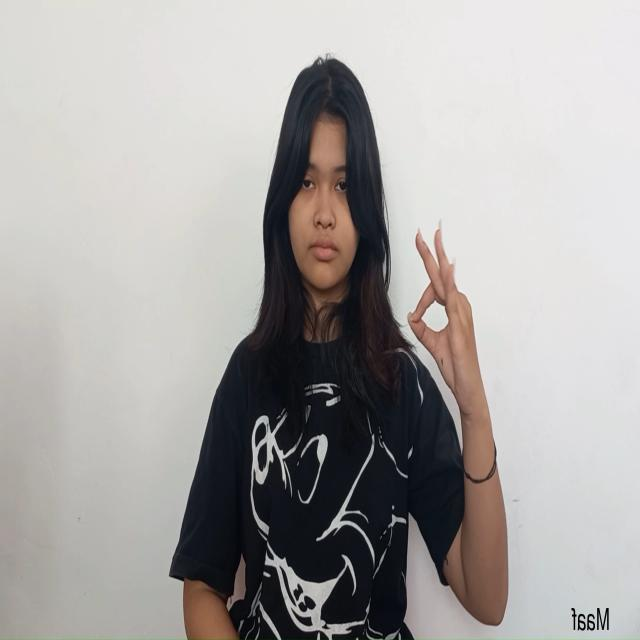Maaf -BISINDO-: (406, 216, 491, 436)
